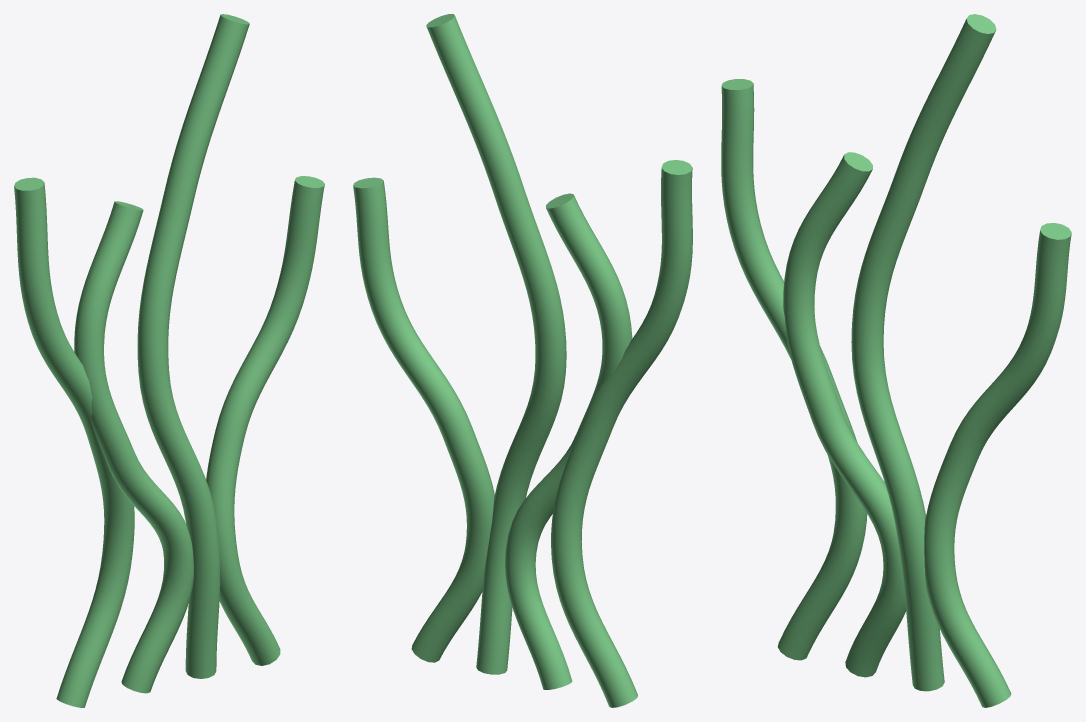
File: Alga.fbx
3 views of the same model, side by side, from view 1: azimuth 30°, elevation 25°; view 2: azimuth 150°, elevation 25°; view 3: azimuth 330°, elevation 25° (orthographic). The views are drawn at different scales.
Parts seen in each view (by area): view 1: Alga; view 2: Alga; view 3: Alga.
Boxes of the visible parts, <box> form: Alga: <box>14,14,324,707</box>; Alga: <box>353,14,692,707</box>; Alga: <box>721,14,1071,707</box>.
Bounding box in the file's own units: 1.08 × 2.09 × 0.1901.
